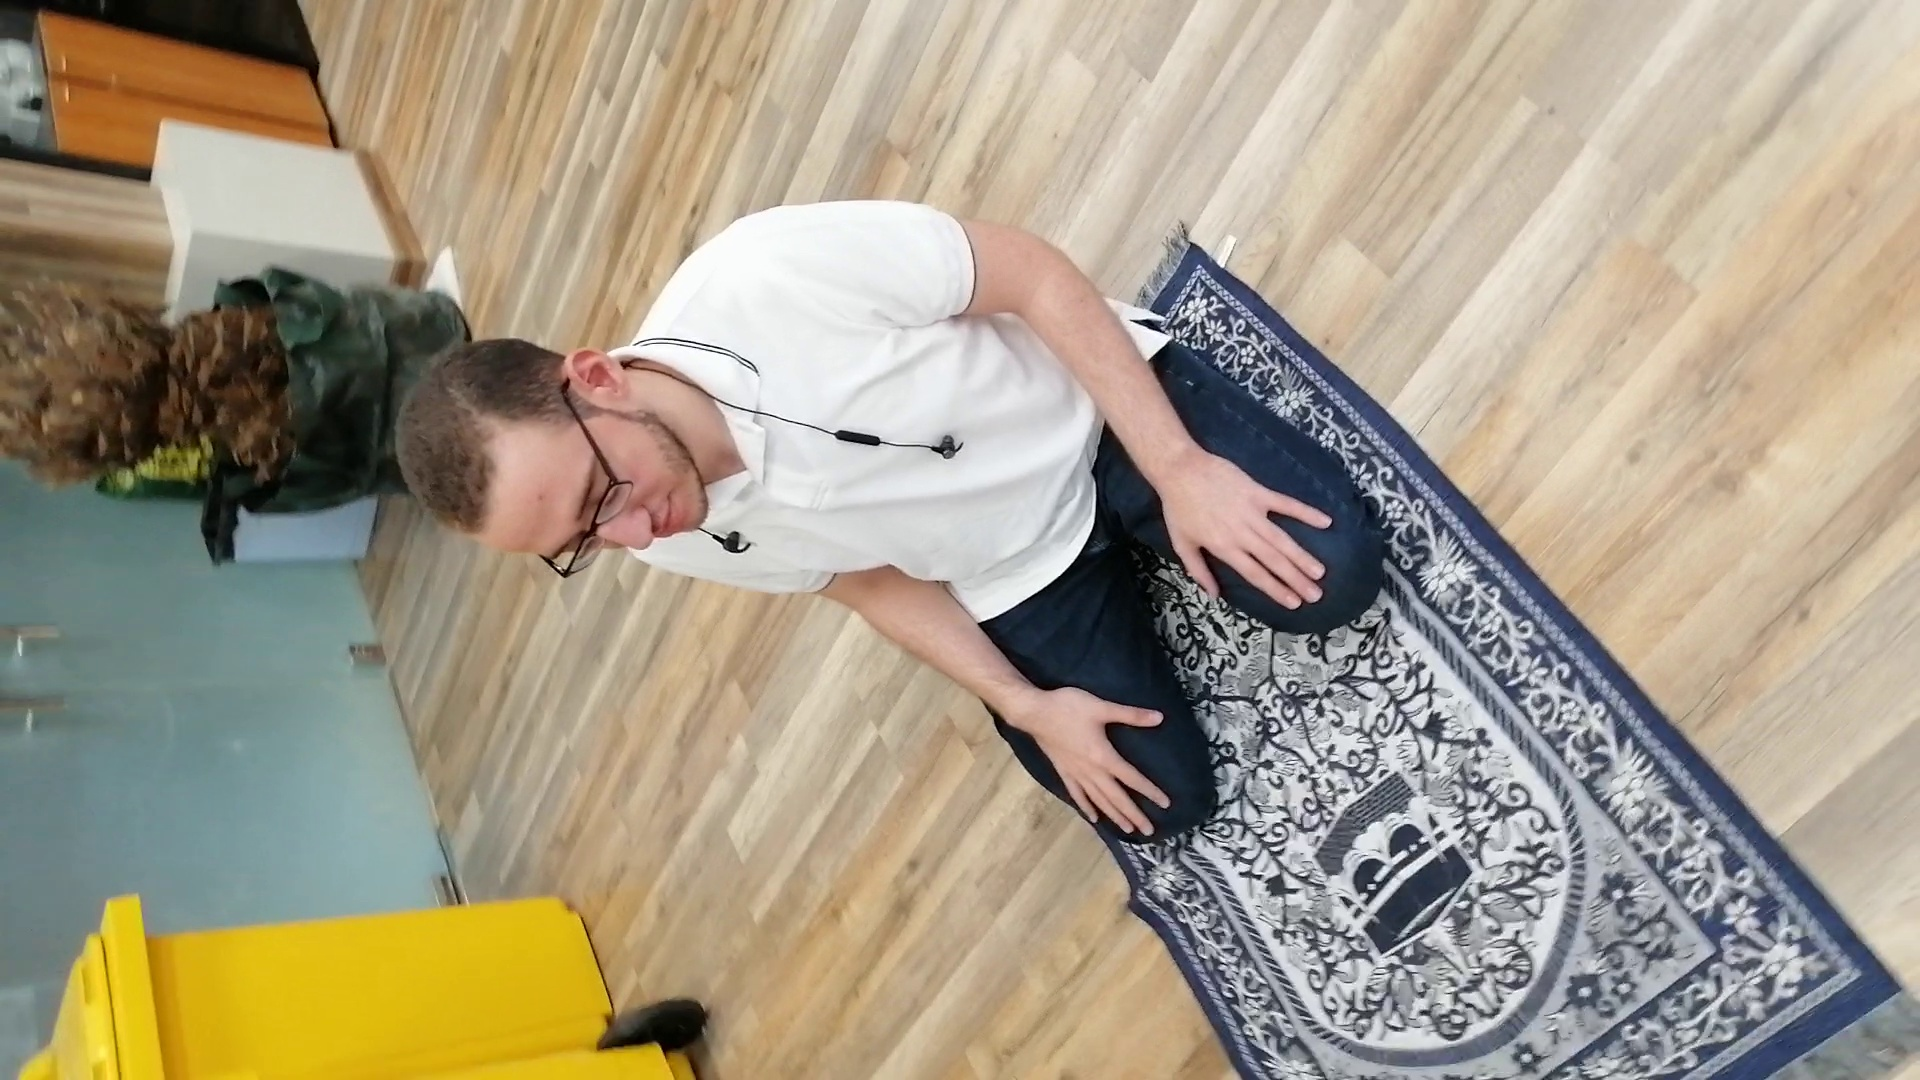sitting: (380, 189, 1395, 855)
